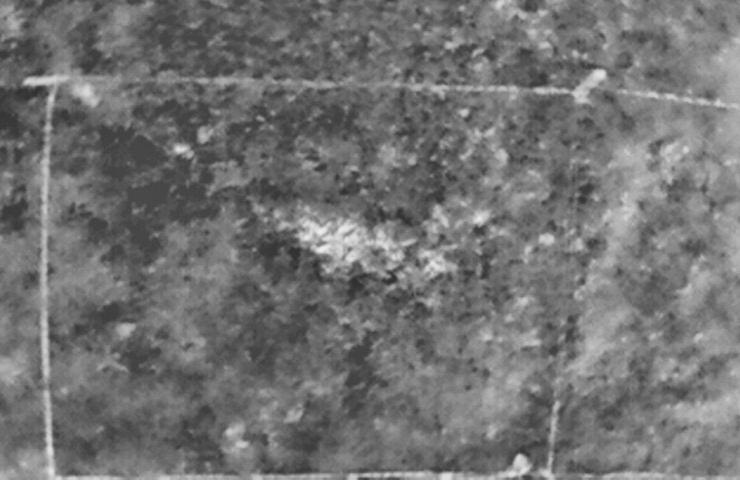landmines: (299, 220, 371, 268)
